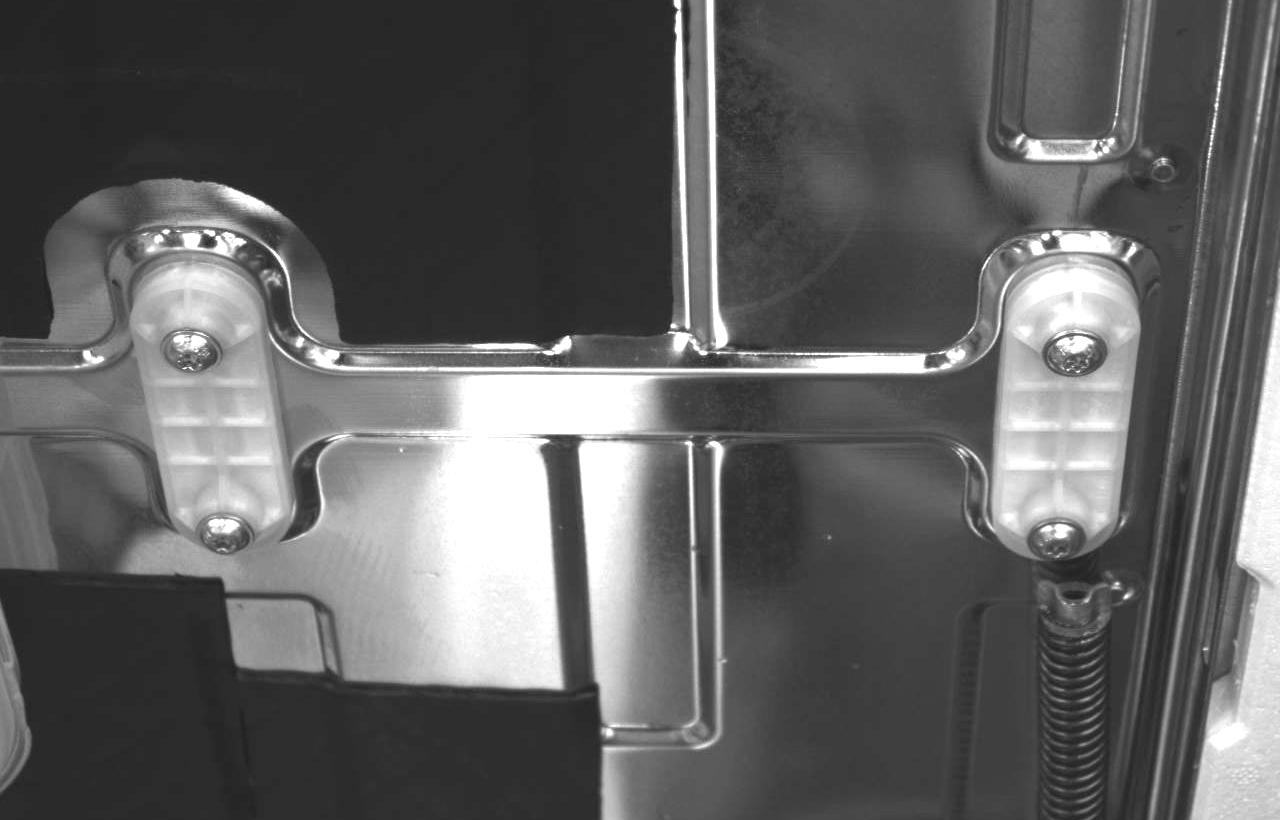vida-ok: (156, 324, 227, 391), (1043, 324, 1110, 391), (190, 502, 256, 561), (1024, 508, 1090, 567)
